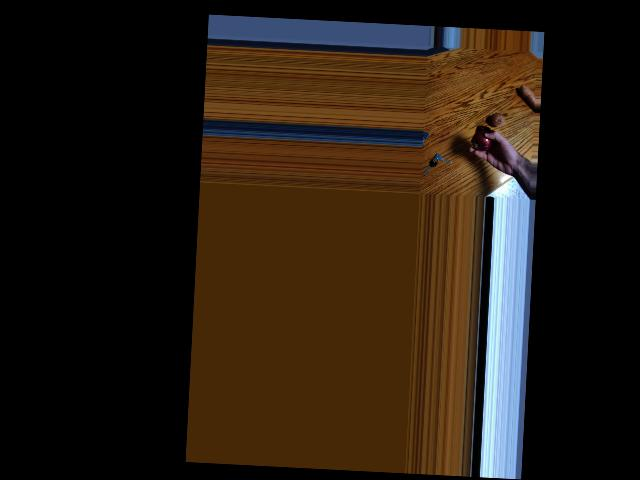onion: (489, 113, 507, 131)
